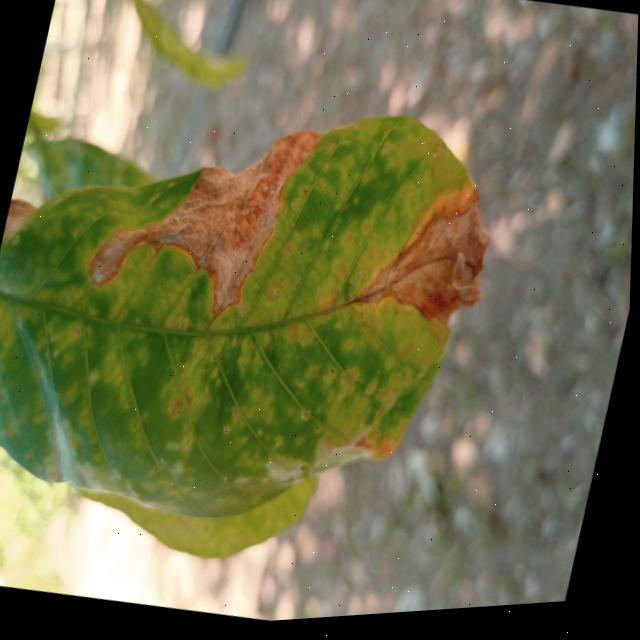Leaf-Blight: (83, 97, 327, 343), (354, 175, 507, 344), (0, 196, 41, 274)
